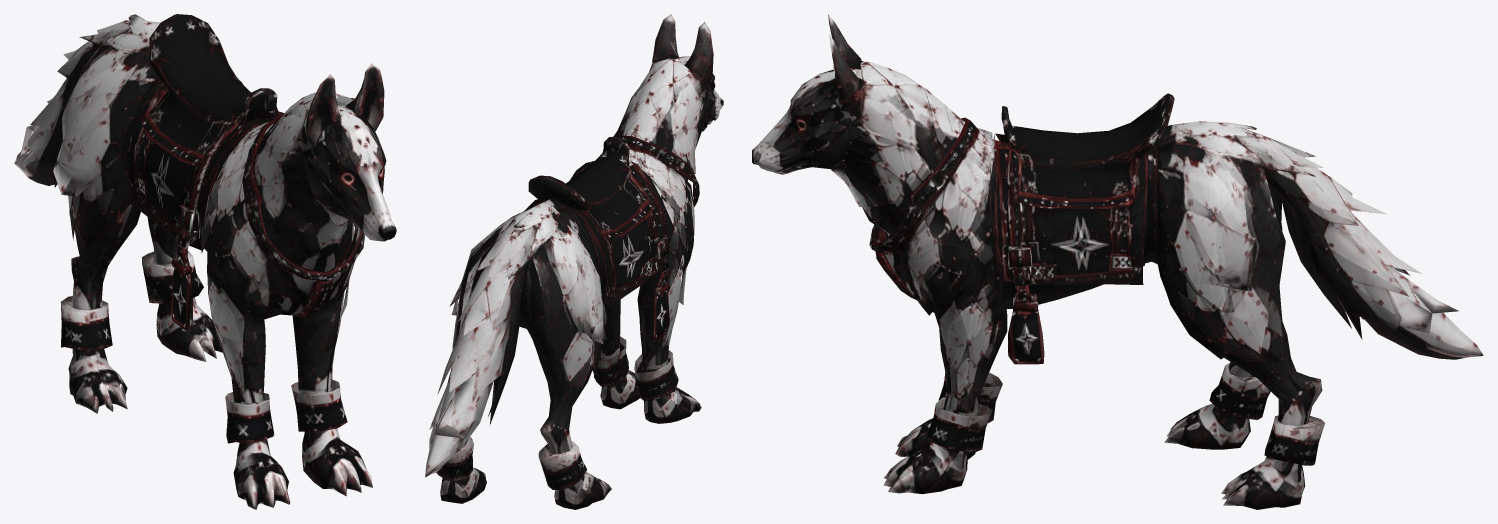
The model's file is eto-inu.glb.
3 renders of one model, left to right at view 1: azimuth 30°, elevation 25°; view 2: azimuth 150°, elevation 25°; view 3: azimuth 270°, elevation 25°, orthographic. The views are drawn at different scales.
Visible parts, largest first — view 1: mesh_node; view 2: mesh_node; view 3: mesh_node.
Part boxes in pixels (x1,y1,x2,y2): mesh_node: (14, 14, 396, 509); mesh_node: (425, 14, 723, 509); mesh_node: (752, 14, 1483, 509).
Bounding box in the file's own units: 0.2832 × 0.6719 × 1.
Materials: 1 (1 with a texture image).
